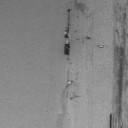slag inclusion: (108, 0, 128, 126), (62, 0, 89, 61), (70, 93, 80, 101), (66, 80, 74, 89), (96, 44, 105, 48), (85, 35, 92, 40), (73, 29, 78, 34), (75, 38, 80, 41), (76, 14, 78, 19)
